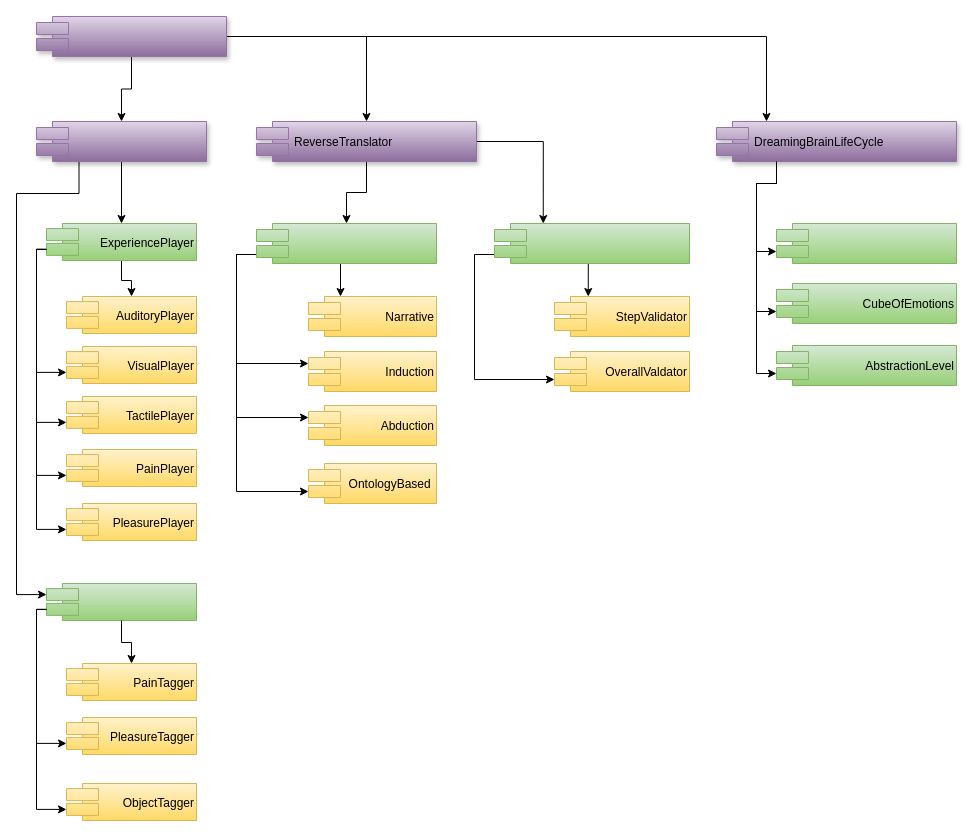
The diagram is 973 pixels wide and 837 high, and some of its shapes have lost their labels. The shapes that lost their labels are listed below. From the top down, each one's centre as x and y in pixels, then its label:
At [132,38]: "DreamingBrain".
At [122,142]: "ExperienceTranslator".
At [346,243]: "GeneralisationStrategy".
At [592,243]: "Validator".
At [866,243]: "Appraisal".
At [121,601]: "SemanticTagger".
